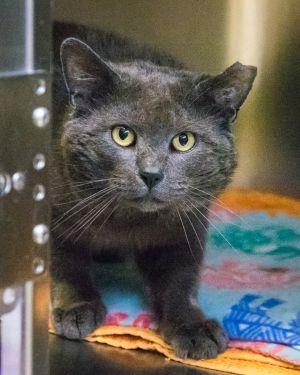rblue: (49, 28, 263, 239)
